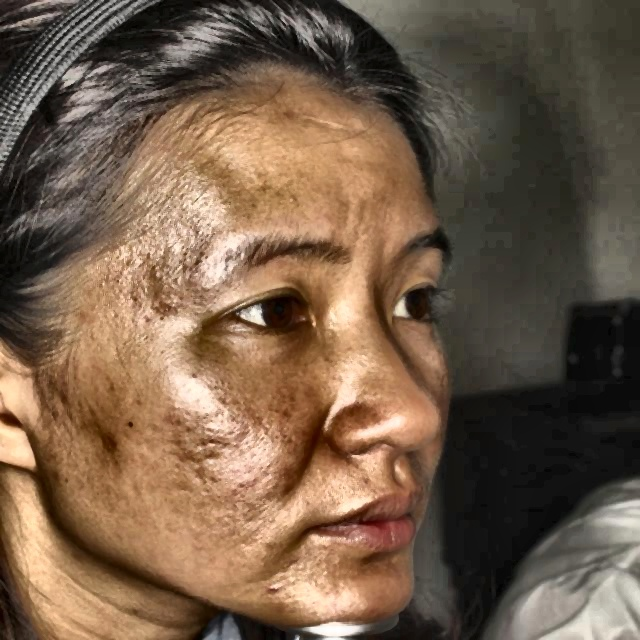comedone: (256, 578, 300, 602)
